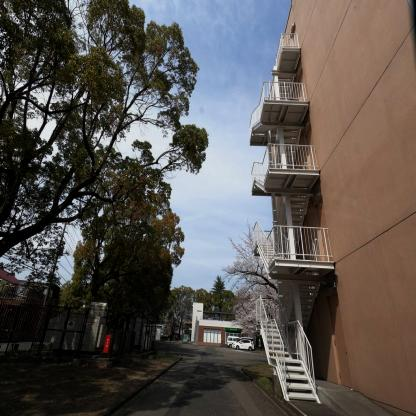Someiyoshino: (223, 216, 284, 341)
